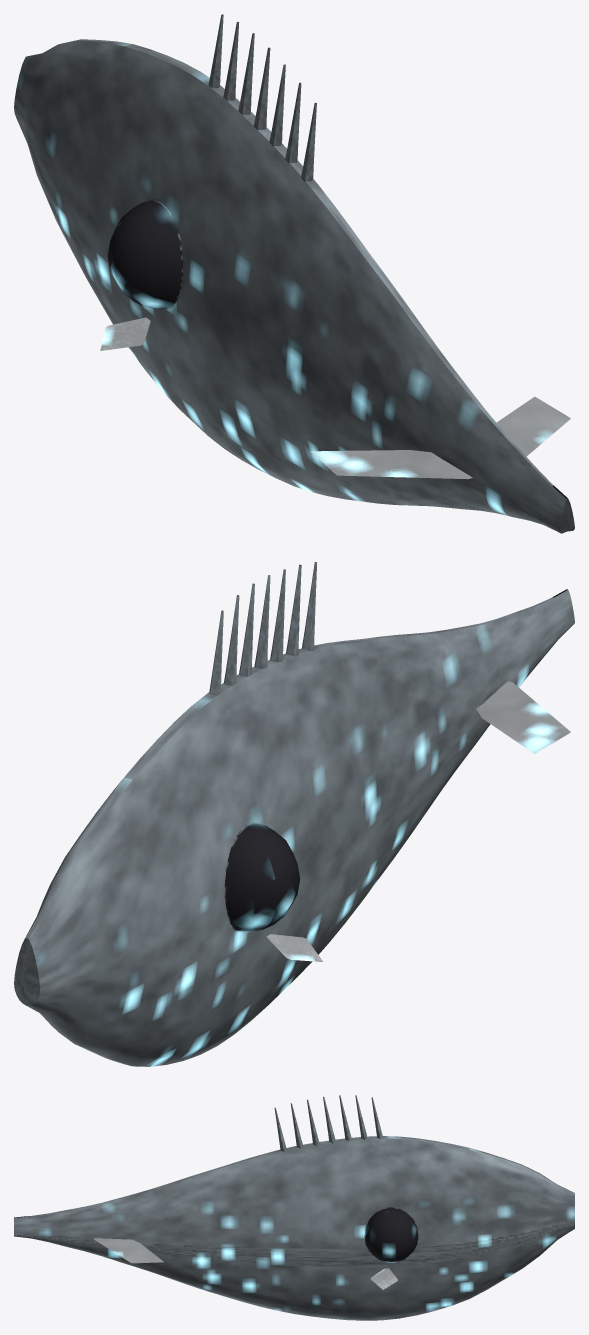
File: argyropelecus_aculeatus.glb
The picture shows the model from 3 angles, top to bottom: view 1: azimuth 30°, elevation 25°; view 2: azimuth 150°, elevation 25°; view 3: azimuth 270°, elevation 25°; orthographic projection. The views are drawn at different scales.
Visible parts, largest first — view 1: argyropelecus_aculeatus; view 2: argyropelecus_aculeatus; view 3: argyropelecus_aculeatus.
Boxes of the visible parts, x1,y1,x2,y2 form: argyropelecus_aculeatus: (14,14,574,533); argyropelecus_aculeatus: (14,562,574,1066); argyropelecus_aculeatus: (14,1095,574,1320).
Bounding box in the file's own units: 0.2496 × 0.441 × 1.
Materials: 2 (2 with a texture image).
